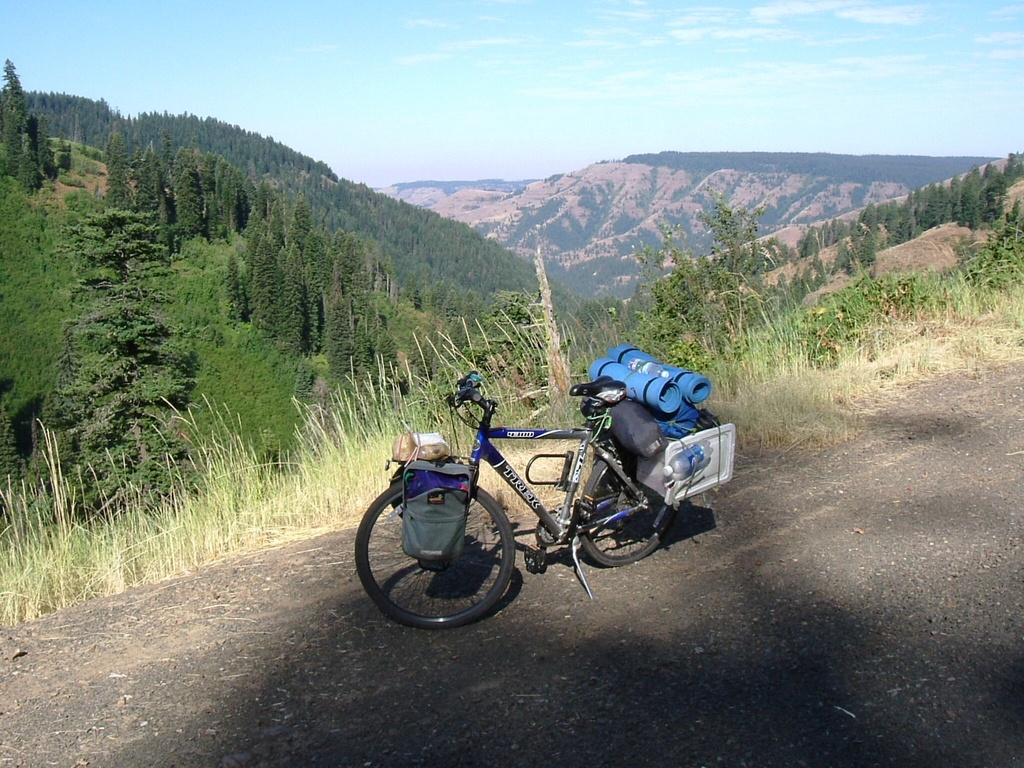Bike_toward: (354, 371, 689, 619)
